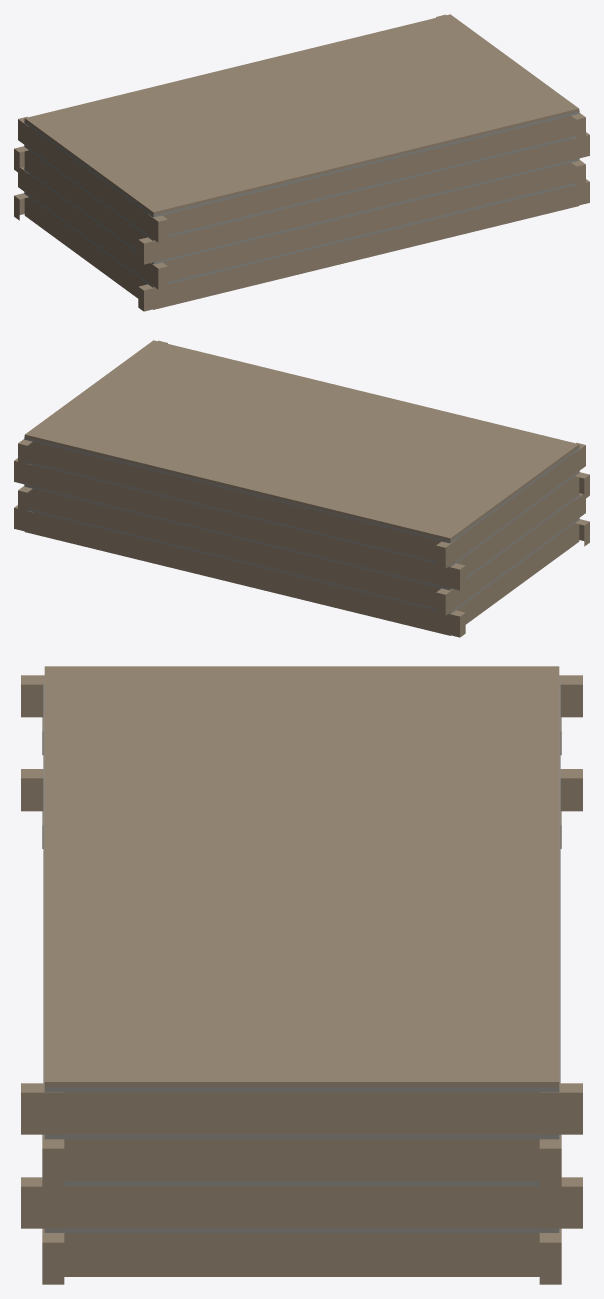
File: first_fort_wharf__first_fort_1803.glb
3 views of the same model, one above another, from view 1: azimuth 30°, elevation 25°; view 2: azimuth 150°, elevation 25°; view 3: azimuth 270°, elevation 25° (orthographic). The views are drawn at different scales.
Parts seen in each view (by area): view 1: first_fort_wharf__first_fort_1803; view 2: first_fort_wharf__first_fort_1803; view 3: first_fort_wharf__first_fort_1803.
Part boxes in pixels (bbox=[...]): first_fort_wharf__first_fort_1803: bbox=[14, 14, 589, 311]; first_fort_wharf__first_fort_1803: bbox=[14, 340, 589, 637]; first_fort_wharf__first_fort_1803: bbox=[21, 666, 582, 1284].
Bounding box in the file's own units: 10.48 × 2.19 × 5.72.
